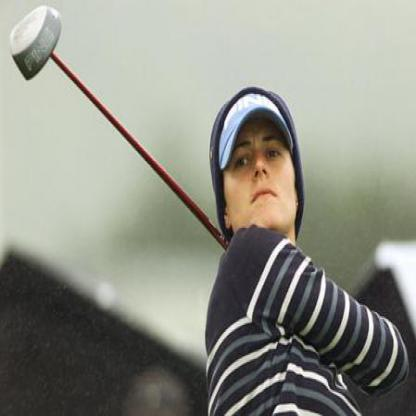face: (220, 95, 299, 246)
